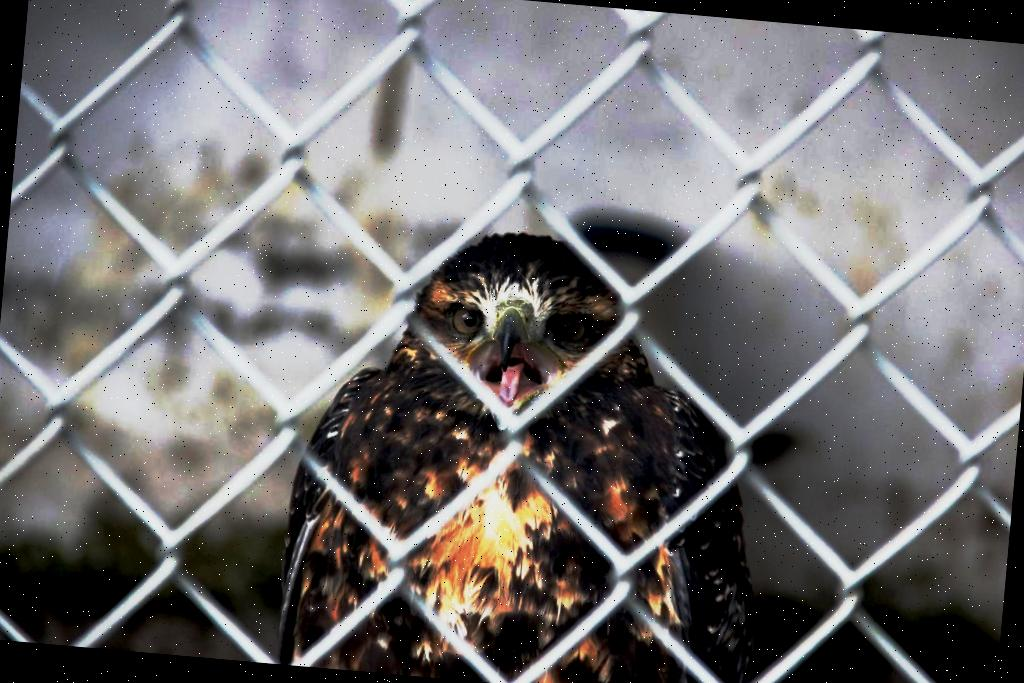Owl: (266, 198, 798, 683)
